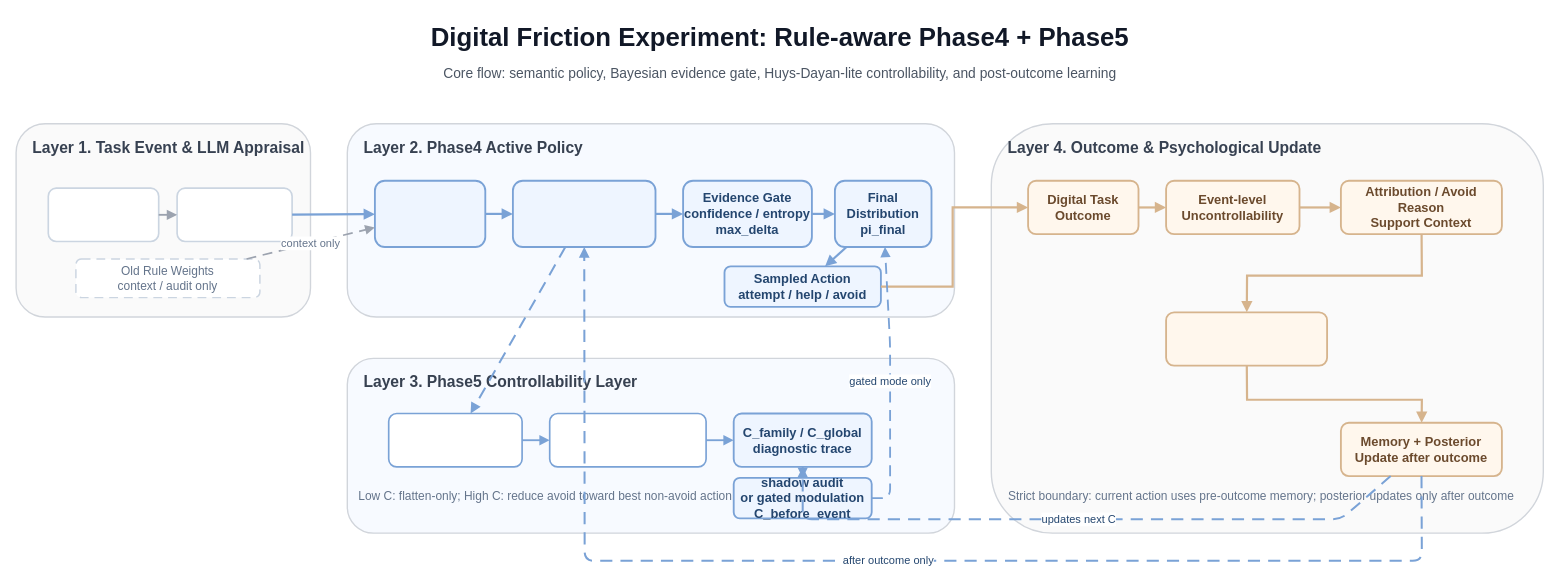
Some shapes in this 1560 by 585 pixel diagram are drawn without their labels. The shapes that lost their labels are listed below. From the top down, each one's centre as x and y in pixels, then its label:
At point 103,214: "Digital Friction Task Event".
At point 234,214: "LLM Appraisal difficulty / risk / control".
At point 430,213: "semantic_v2 pi_ref no rule mix".
At point 584,213: "Action-Outcome Posterior P(o | family, action)".
At point 1246,338: "Helplessness / Self-efficacy Scope Spillover".
At point 454,439: "reads same posterior evidence".
At point 627,439: "entropy + contrast + chi-lite value".
